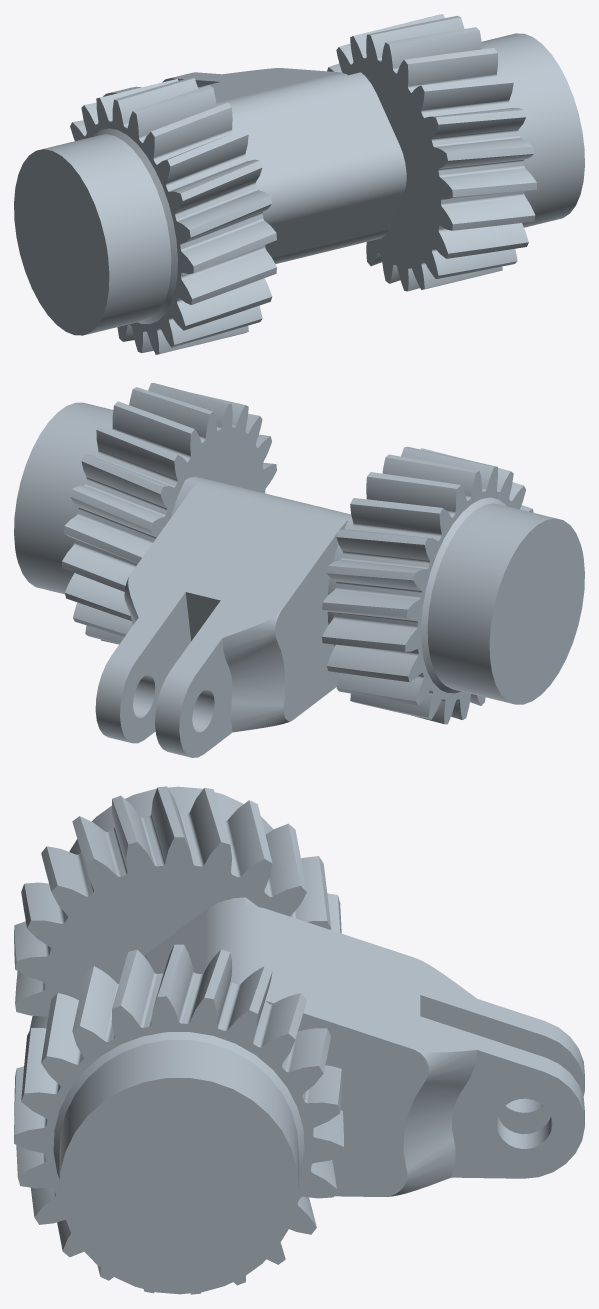
The model's file is Bottom Mid Linkage.glb.
3 renders of one model, top to bottom at view 1: azimuth 30°, elevation 25°; view 2: azimuth 150°, elevation 25°; view 3: azimuth 270°, elevation 25°, orthographic. The views are drawn at different scales.
Visible parts, largest first — view 1: Bottom Mid Linkage; view 2: Bottom Mid Linkage; view 3: Bottom Mid Linkage.
Boxes of the visible parts, x1,y1,x2,y2 form: Bottom Mid Linkage: (14,14,584,354); Bottom Mid Linkage: (14,383,584,757); Bottom Mid Linkage: (14,786,584,1294).
Size of the model in its own units: 0.0568 by 0.0272 by 0.0471.
